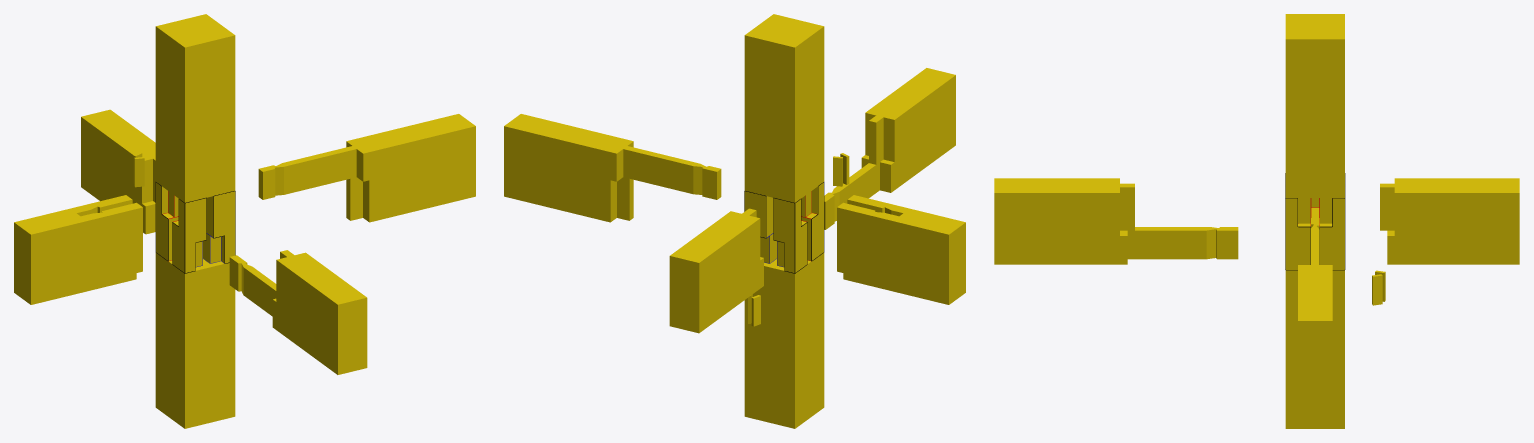
File: R070504_7柱はり四方差し.glb
3 renders of one model, left to right at view 1: azimuth 30°, elevation 25°; view 2: azimuth 150°, elevation 25°; view 3: azimuth 270°, elevation 25°, orthographic. The views are drawn at different scales.
Visible parts, largest first — view 1: column1, beam_totsu2, column3, beam_ou2, beam_totsu1, beam_ou1, column2, column2_wire; view 2: column1, beam_totsu2, column3, beam_ou2, beam_totsu1, beam_ou1, column2, column2_wire, shachi1; view 3: beam_totsu1, beam_ou1, column1, column3, beam_totsu2, column2, column2_wire.
Part boxes in pixels (x1,y1,x2,y2): column1: [155, 14, 235, 202]; beam_totsu2: [258, 114, 475, 222]; column3: [155, 253, 235, 428]; beam_ou2: [14, 195, 142, 304]; beam_totsu1: [229, 250, 367, 374]; beam_ou1: [81, 109, 155, 234]; column2: [156, 182, 235, 272]; column2_wire: [155, 182, 235, 273]; column1: [744, 14, 824, 202]; beam_totsu2: [504, 114, 721, 222]; column3: [744, 253, 824, 428]; beam_ou2: [837, 195, 965, 304]; beam_totsu1: [824, 68, 955, 229]; beam_ou1: [669, 208, 763, 333]; column2: [744, 182, 823, 272]; column2_wire: [744, 182, 824, 273]; shachi1: [833, 153, 849, 186]; beam_totsu1: [994, 178, 1238, 264]; beam_ou1: [1380, 178, 1519, 264]; column1: [1285, 14, 1344, 197]; column3: [1285, 270, 1344, 428]; beam_totsu2: [1298, 218, 1332, 392]; column2: [1285, 198, 1344, 269]; column2_wire: [1285, 173, 1345, 270].
Bounding box in the file's own units: 15.87 × 13 × 15.88.
